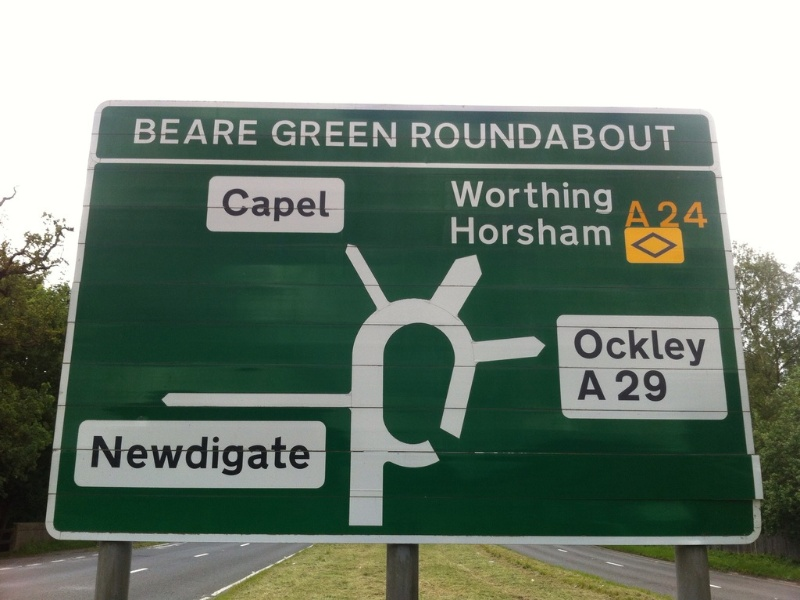roundabout_ahead: (96, 104, 733, 560)
